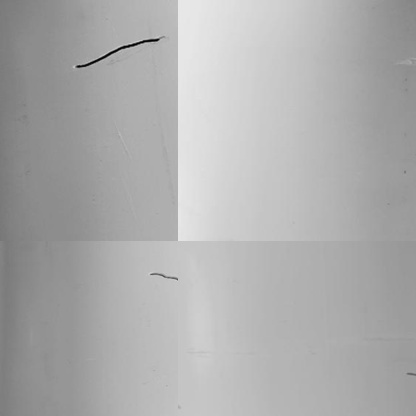fengxi: (67, 34, 165, 73), (149, 267, 177, 285)
